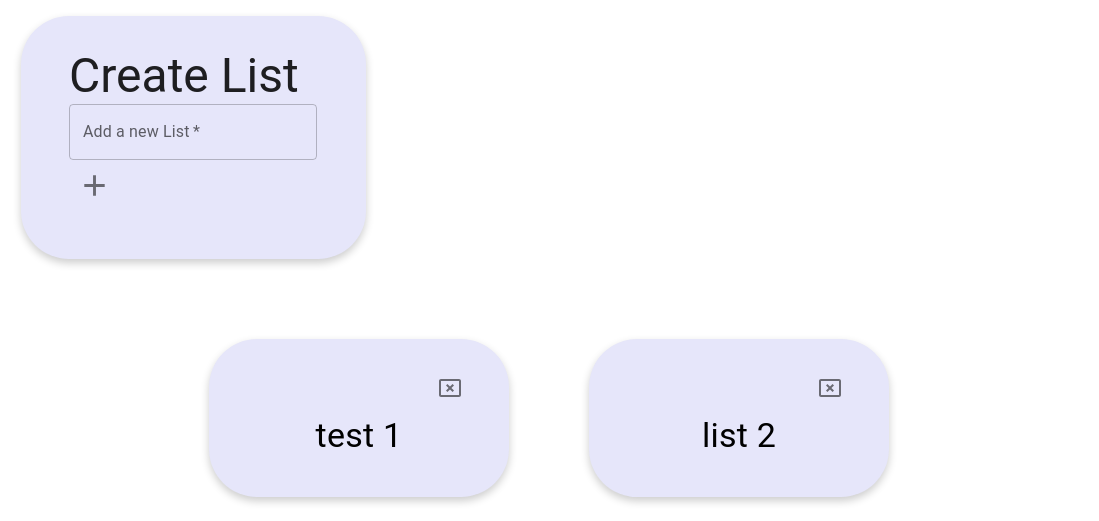
Scenario: Test HomePage Component › Creates a new list › adds a new list
The image size is (1099, 521).
Expected: the button named "add list name" is shown, 69,160 -> 120,211
Note: Type in new title
Clear the field labelled "Add a new List *": (193, 132) 69,104 -> 317,160
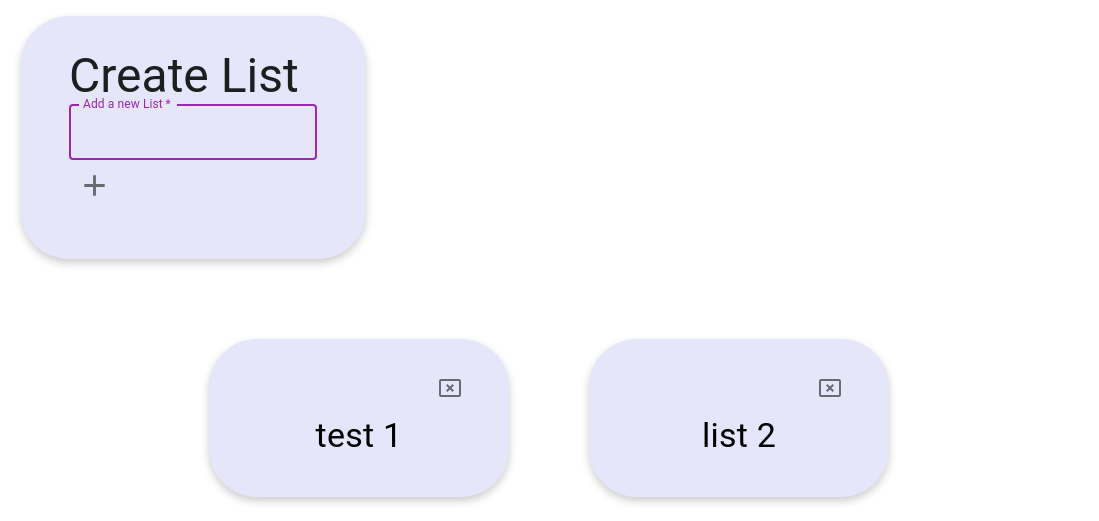
In the field labelled "Add a new List *": (193, 132) 69,104 -> 317,160, type "new list-test"
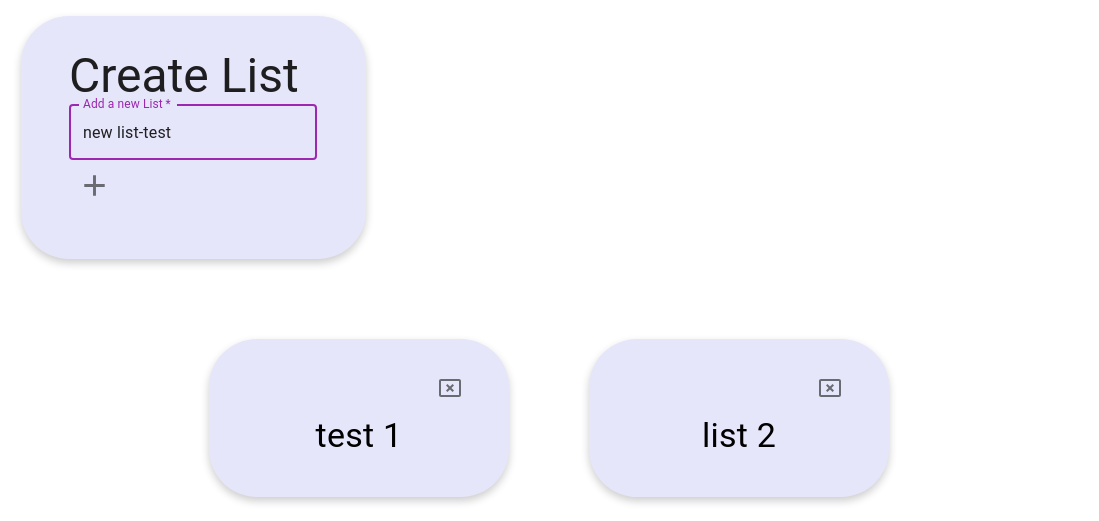
Note: Submit form
Click the button named "add list name": (94, 186) 69,160 -> 120,211
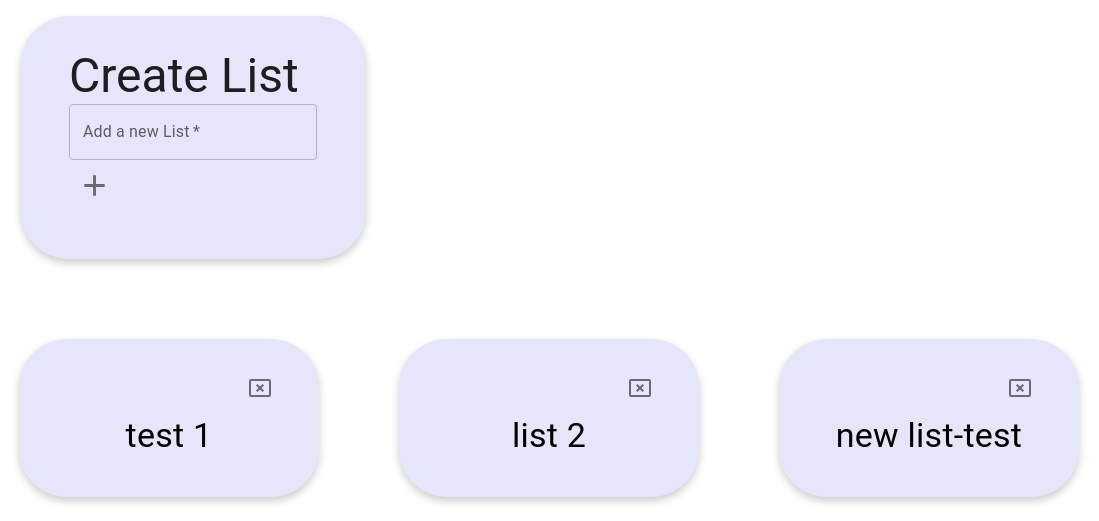
Expected: the heading "new list-test" is shown, 836,415 -> 1022,455
